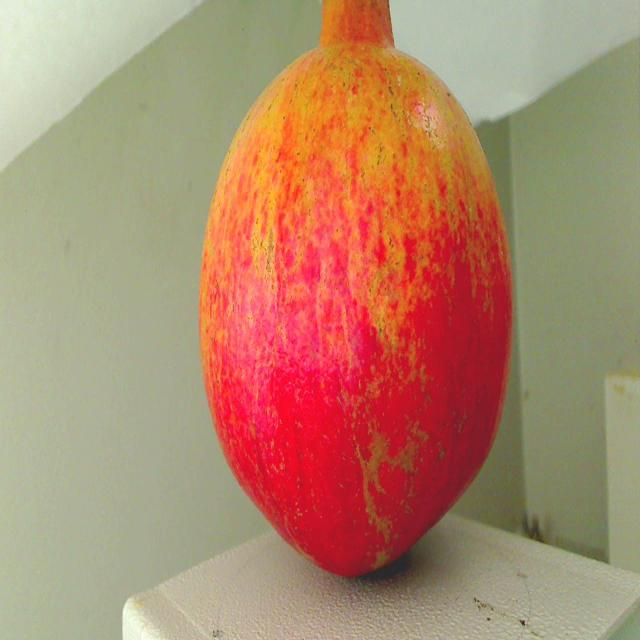pomegranate: (187, 0, 520, 588)
